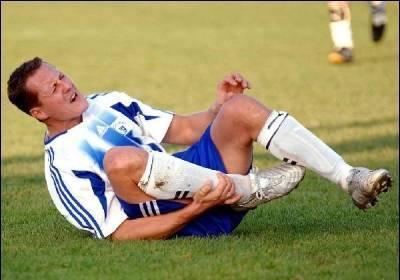Fall-Detected: (13, 35, 383, 244)
